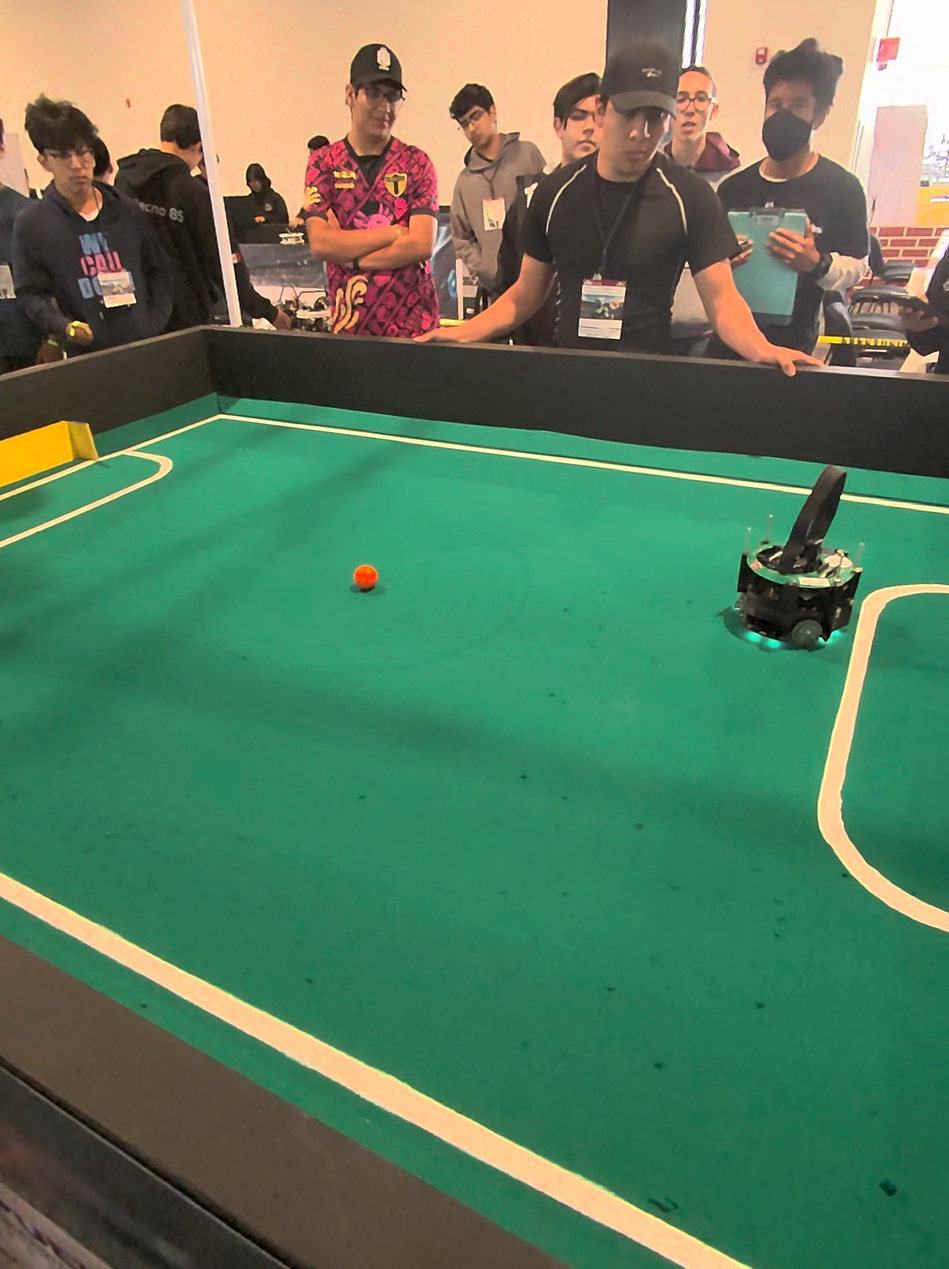Robot: (728, 468, 866, 670)
pelota: (345, 560, 377, 593)
